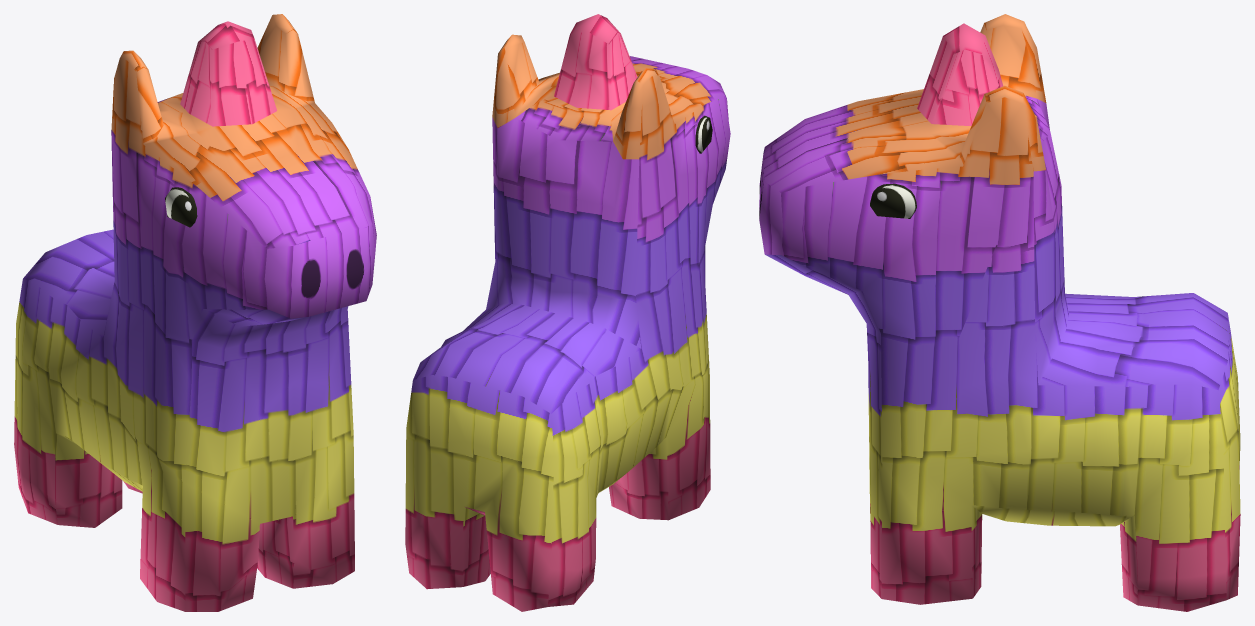
Rendered from pinata.fbx.
3 renders of one model, left to right at view 1: azimuth 30°, elevation 25°; view 2: azimuth 150°, elevation 25°; view 3: azimuth 270°, elevation 25°, orthographic. The views are drawn at different scales.
Parts seen in each view (by area): view 1: eye2; view 2: eye2; view 3: eye2.
Part boxes in pixels (left/top/right/bottom): eye2: left=14, top=14, right=376, bottom=611; eye2: left=405, top=14, right=730, bottom=611; eye2: left=759, top=14, right=1240, bottom=611.
Size of the model in its own units: 56.23 by 156 by 124.
1 material, 1 textured.
